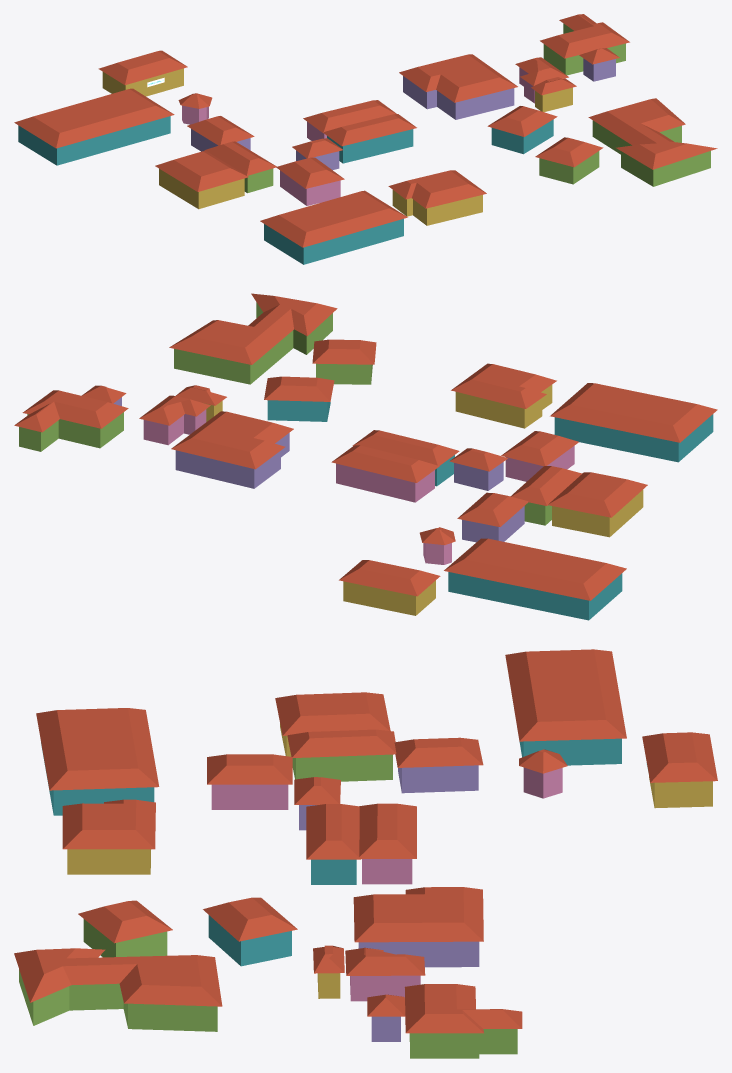
Rendered from boardwalk.glb.
The picture shows the model from 3 angles, top to bottom: view 1: azimuth 30°, elevation 25°; view 2: azimuth 150°, elevation 25°; view 3: azimuth 270°, elevation 25°; orthographic projection. The views are drawn at different scales.
Visible parts, largest first — view 1: boardwalk_lod0; view 2: boardwalk_lod0; view 3: boardwalk_lod0.
Boxes of the visible parts, <box> form: boardwalk_lod0: <box>14,14,717,264</box>; boardwalk_lod0: <box>14,293,717,620</box>; boardwalk_lod0: <box>14,649,717,1058</box>.
Size of what is drawn, in the model's own units: 120 by 5.6 by 93.63.
Materials: 8 (1 with a texture image).
